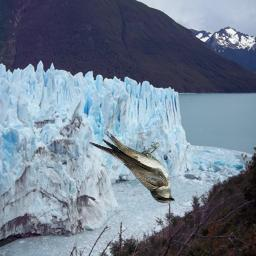Swallow: (89, 133, 175, 204)
